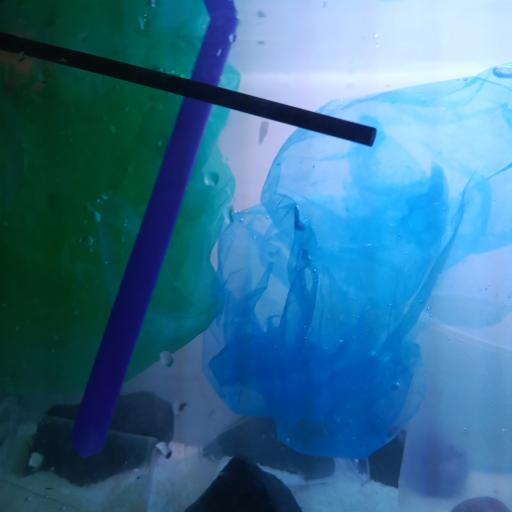plastic_bag: (208, 68, 512, 454), (0, 40, 243, 398)
plastic_cup: (396, 291, 512, 511), (0, 394, 158, 512), (184, 414, 370, 486)
plastic_straw: (66, 0, 240, 456), (0, 30, 377, 148)
